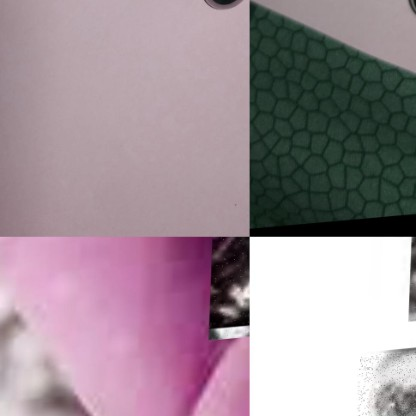ironball: (357, 350, 415, 415)
